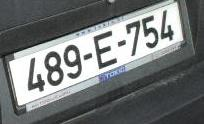-: (116, 36, 127, 51), (84, 52, 93, 62)
4: (27, 58, 46, 92), (159, 11, 176, 42)
5: (143, 13, 159, 50)
7: (126, 19, 140, 58)
8: (44, 50, 64, 87)
9: (64, 45, 82, 80)
E: (93, 31, 118, 69)
